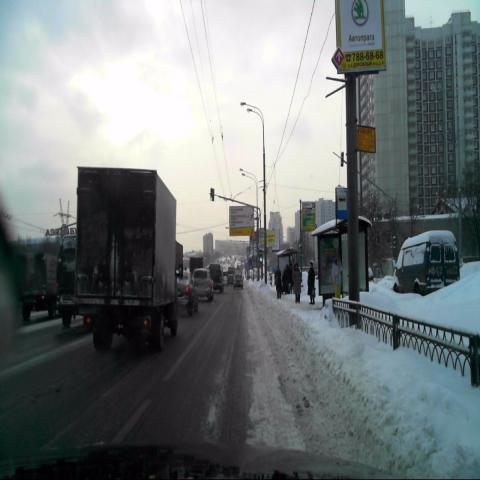5_16: (336, 188, 349, 220)
